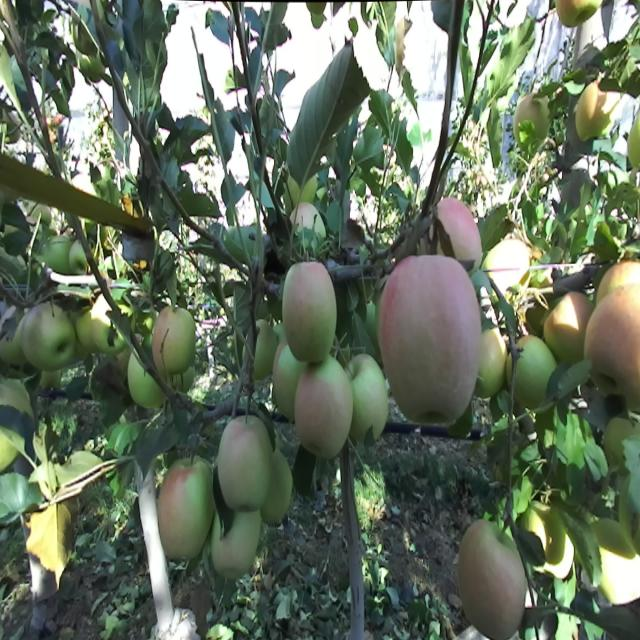apple: (378, 255, 479, 422), (457, 519, 525, 640), (585, 282, 640, 408), (294, 358, 352, 456), (158, 455, 213, 558), (281, 261, 337, 359), (218, 416, 271, 512), (590, 518, 640, 604), (425, 198, 482, 272), (524, 500, 574, 577), (346, 355, 387, 447), (22, 302, 74, 371), (508, 336, 556, 408), (212, 506, 260, 577), (544, 292, 590, 362), (152, 306, 196, 375), (90, 293, 134, 355), (483, 239, 530, 295), (575, 79, 616, 137), (128, 353, 164, 411), (242, 319, 275, 380), (514, 94, 549, 145), (274, 344, 298, 418), (480, 327, 506, 395), (267, 456, 293, 523), (596, 261, 640, 298), (1, 306, 25, 364), (555, 0, 600, 26), (75, 309, 96, 352), (46, 236, 70, 273), (627, 115, 640, 167), (70, 240, 86, 278)
